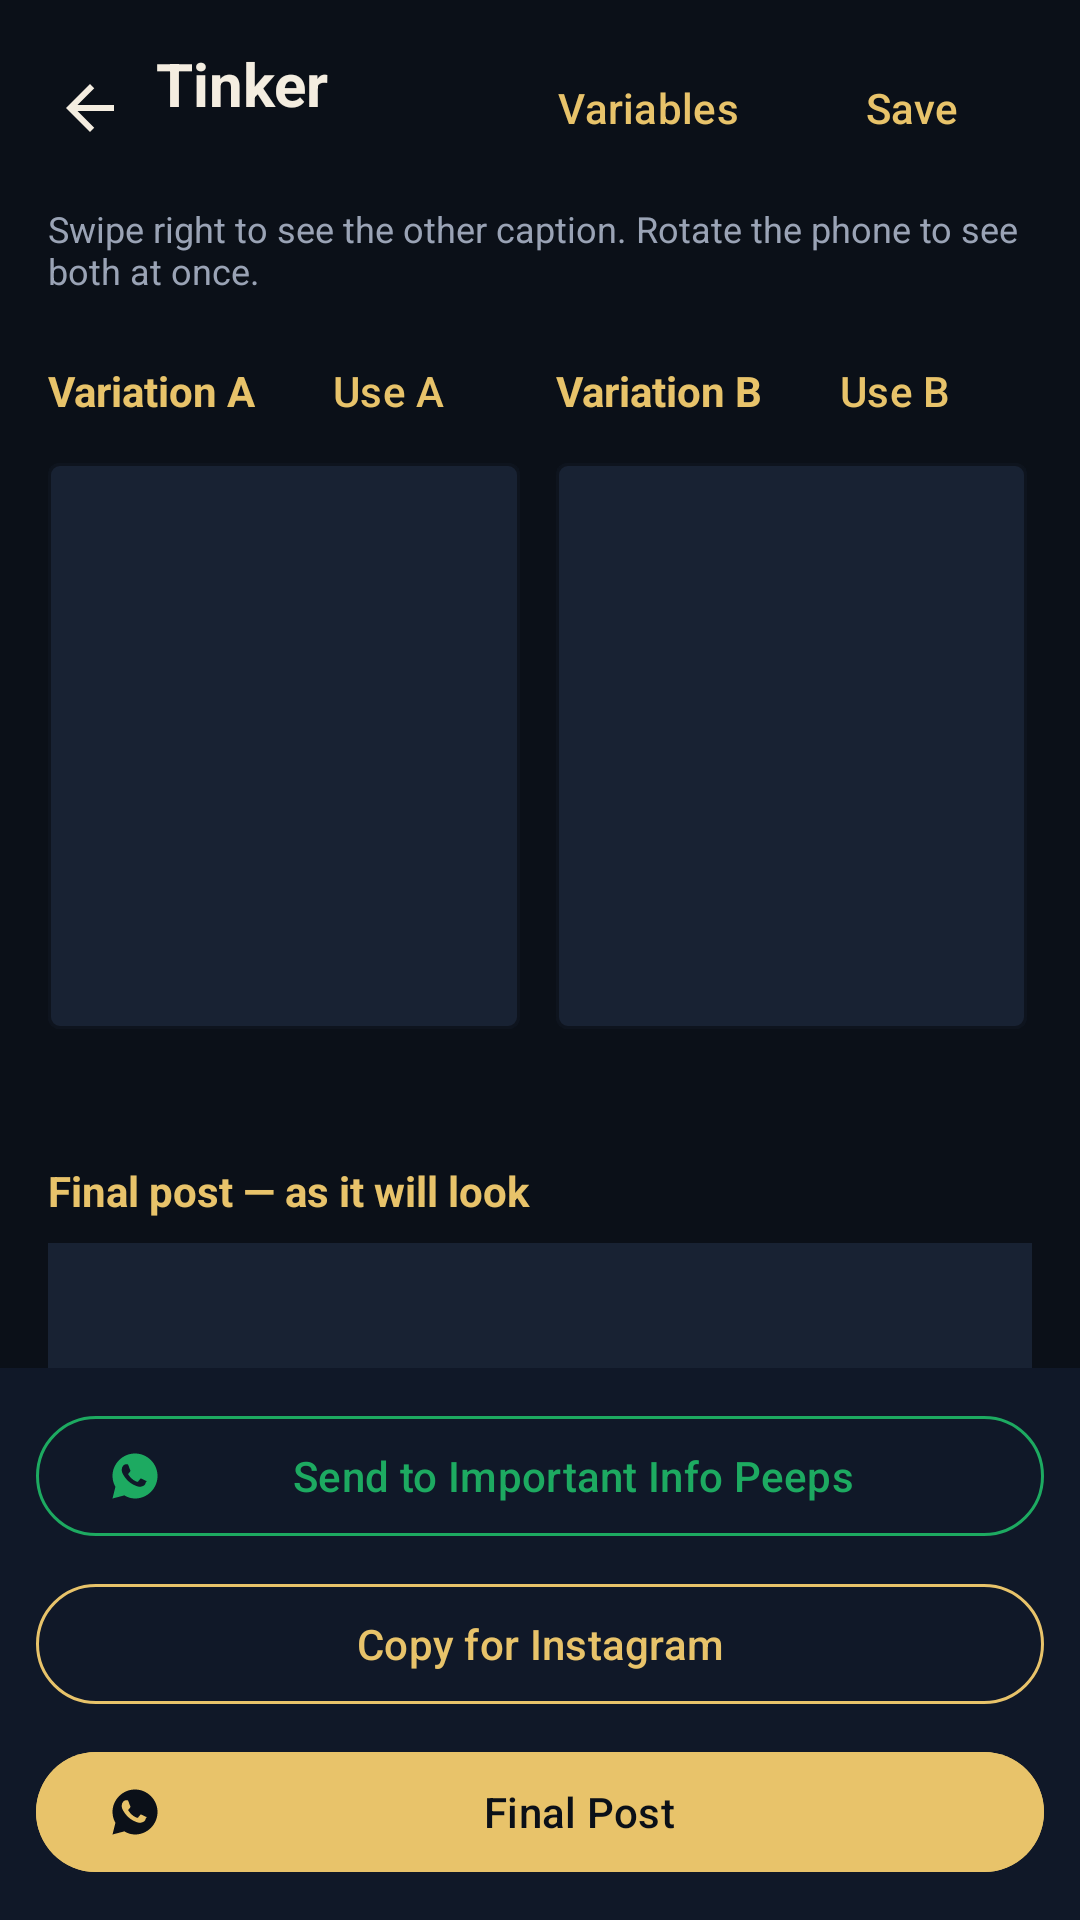

Locate icon controls on the screen. Image size 1080w x 1920h, boxes as detection(x1, y1, x2, y2).
Back: detection(66, 84, 114, 132)
